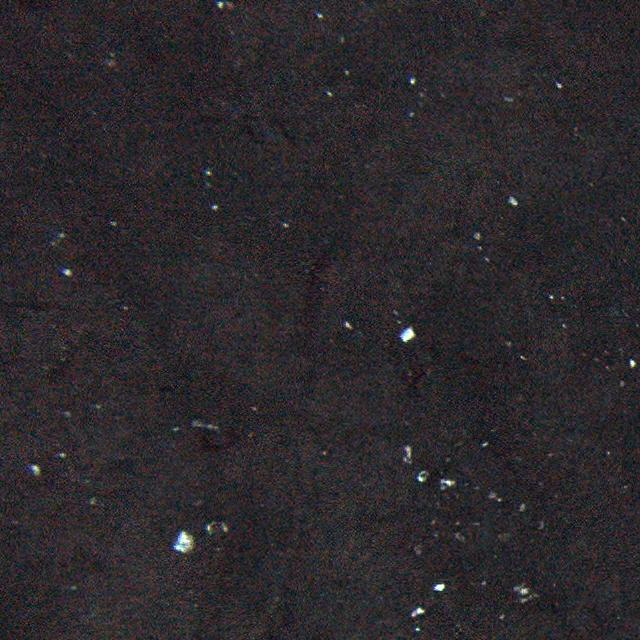flatfish: (302, 252, 344, 396)
